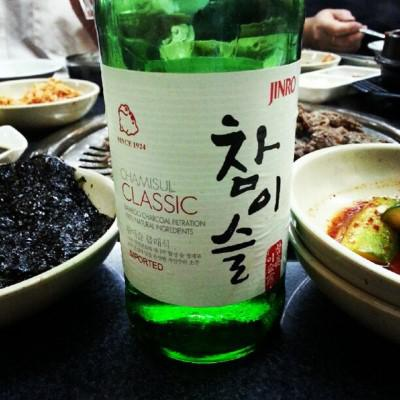soju: (87, 3, 306, 366)
